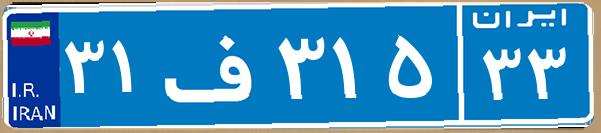1: (330, 28, 385, 110), (110, 28, 158, 105)
3: (273, 28, 330, 110), (57, 26, 110, 107), (475, 38, 525, 113), (525, 38, 570, 115)
5: (385, 28, 445, 110)
ف: (158, 15, 273, 115)
